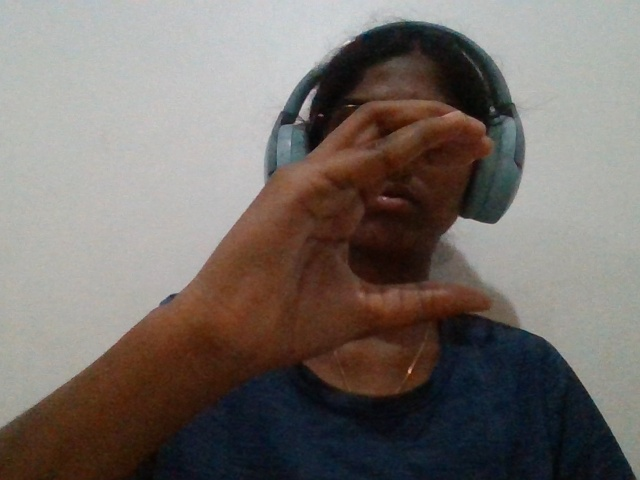C: (144, 78, 536, 384)
